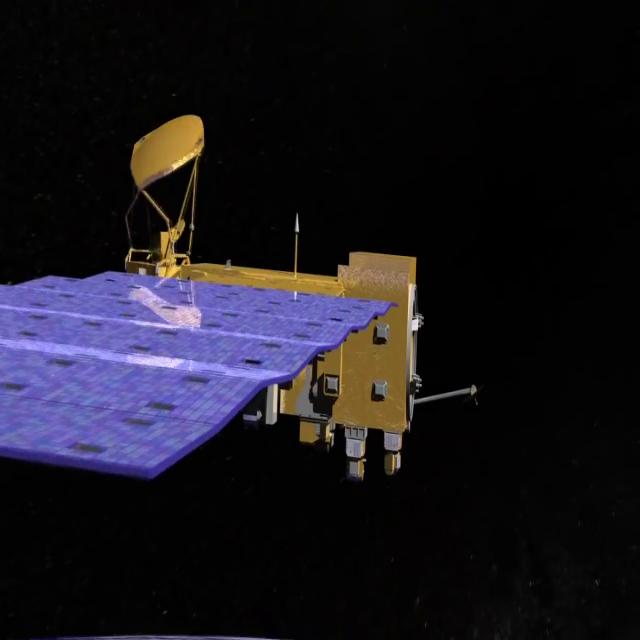satellite: (0, 102, 480, 500)
